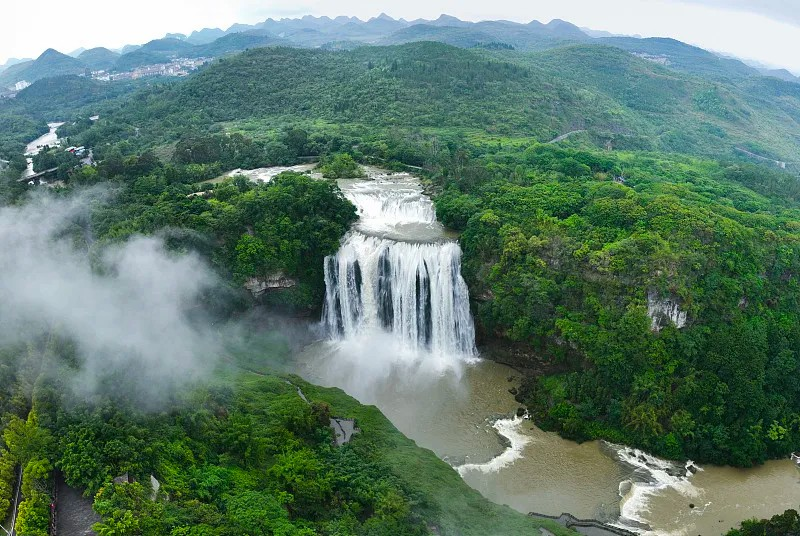Huangguoshu: (325, 196, 476, 358)
